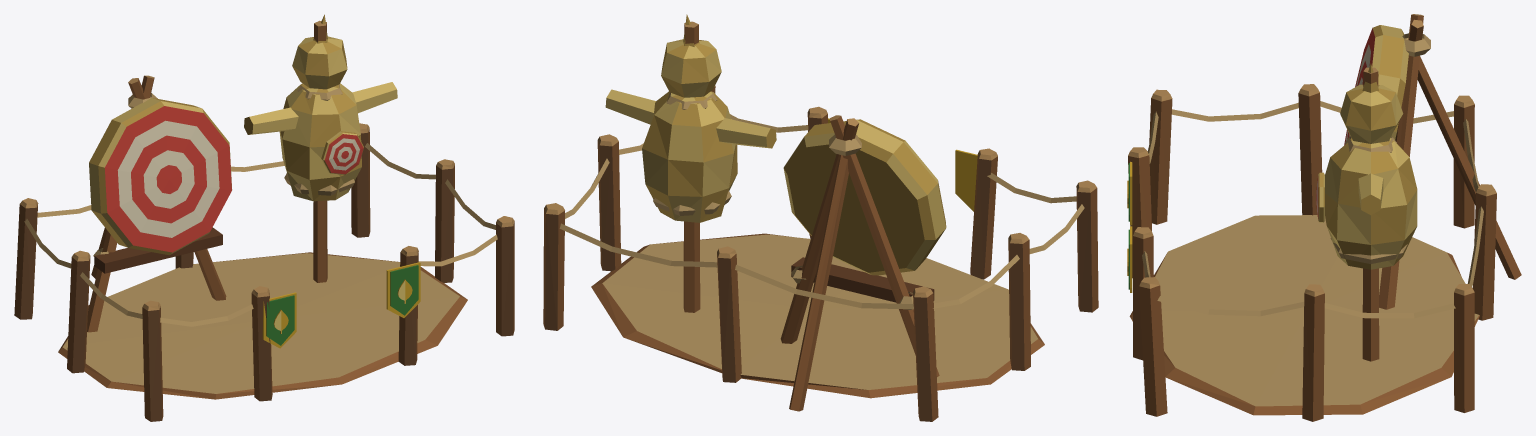
File: target_2.glb
3 views of the same model, side by side, from view 1: azimuth 30°, elevation 25°; view 2: azimuth 150°, elevation 25°; view 3: azimuth 270°, elevation 25° (orthographic). The views are drawn at different scales.
Parts seen in each view (by area): view 1: target_2; view 2: target_2; view 3: target_2.
Boxes of the visible parts, x1,y1,x2,y2 form: target_2: (14, 14, 514, 421); target_2: (543, 14, 1098, 421); target_2: (1127, 14, 1521, 421).
Size of the model in its own units: 2.24 by 1.5 by 1.77.
